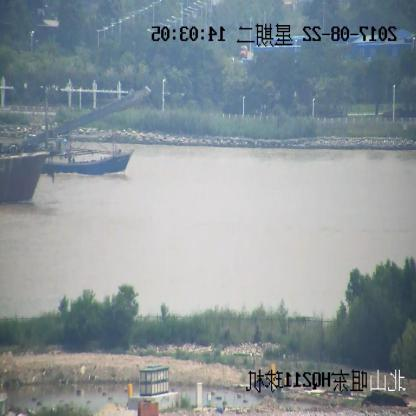Fishing Boat: (40, 132, 134, 176)
